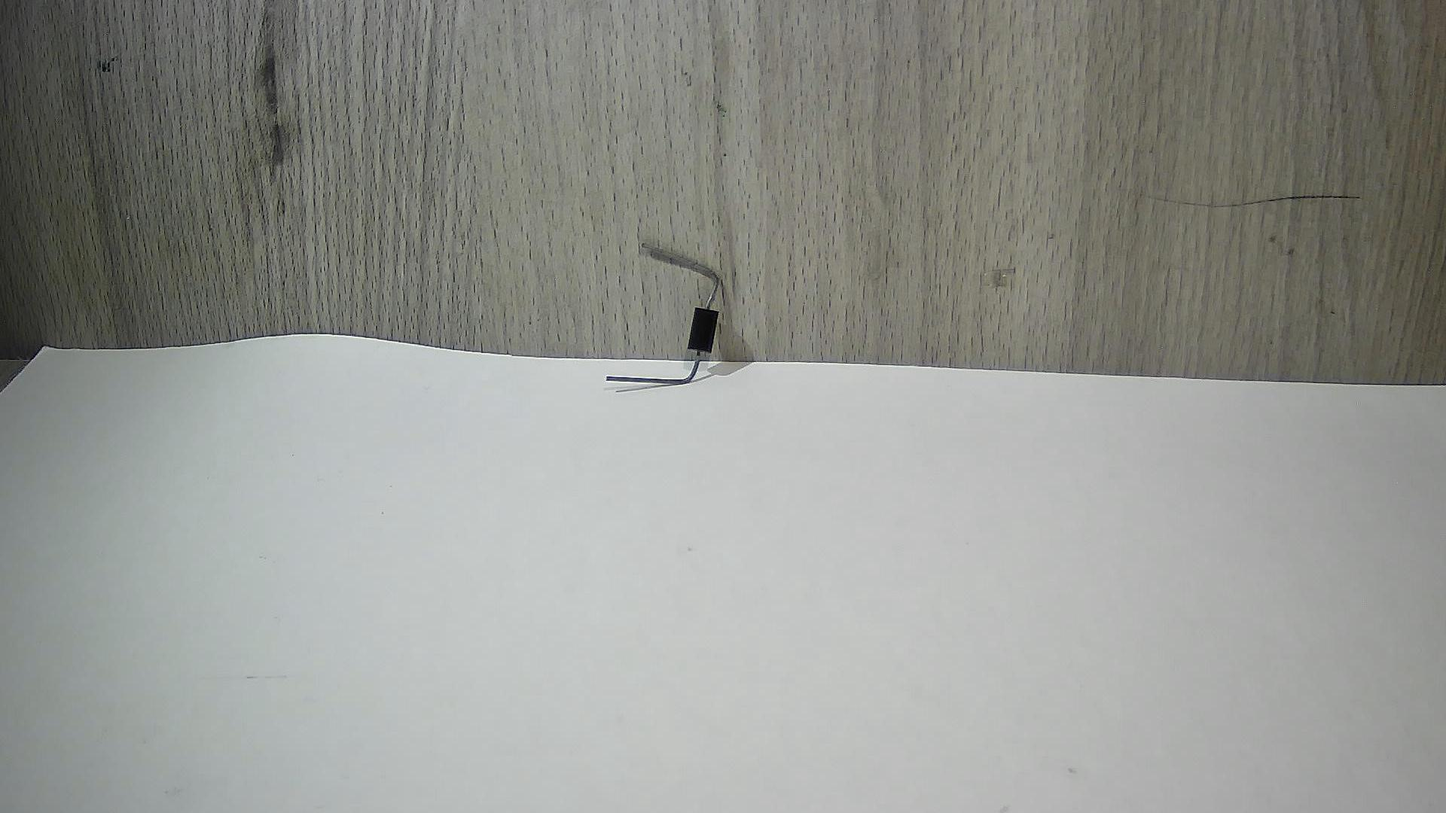Diodo: (592, 193, 771, 424)
